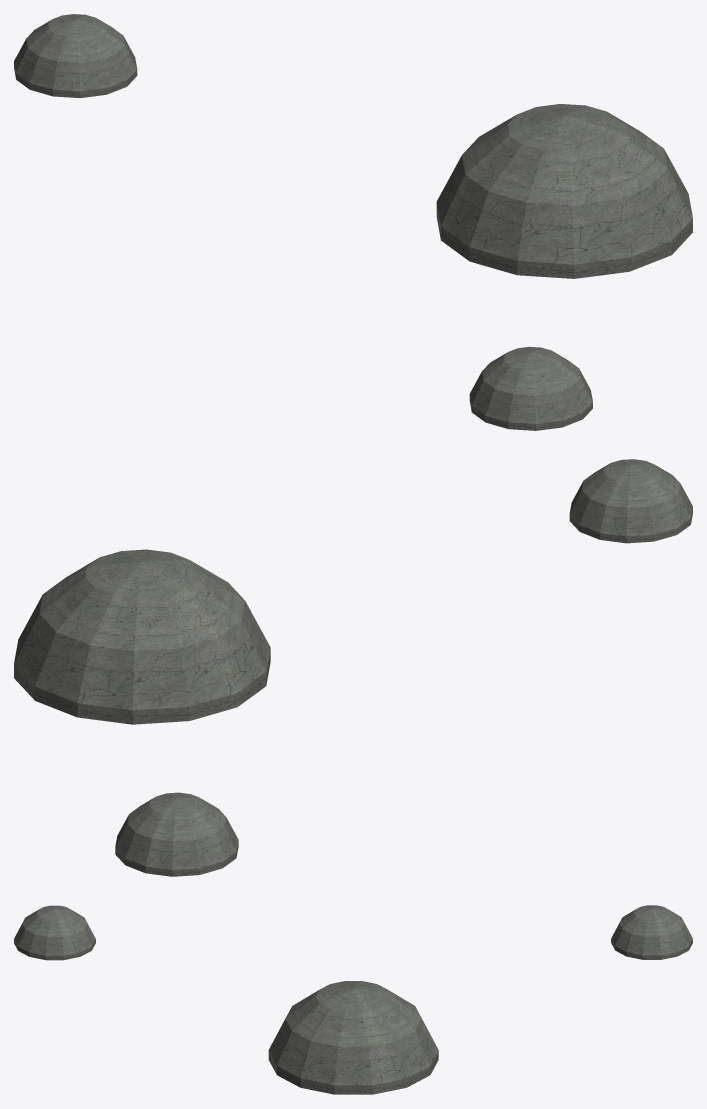
The model's file is grifftop2.obj.
The picture shows the model from 3 angles, top to bottom: view 1: azimuth 30°, elevation 25°; view 2: azimuth 150°, elevation 25°; view 3: azimuth 270°, elevation 25°; orthographic projection. The views are drawn at different scales.
Visible parts, largest first — view 1: grifftop2; view 2: grifftop2; view 3: grifftop2.
Boxes of the visible parts, <box> form: grifftop2: <box>14,14,692,430</box>; grifftop2: <box>14,459,692,876</box>; grifftop2: <box>14,905,692,1094</box>.
Size of the model in its own units: 35.39 by 8.62 by 74.77.
Materials: 1 (1 with a texture image).
